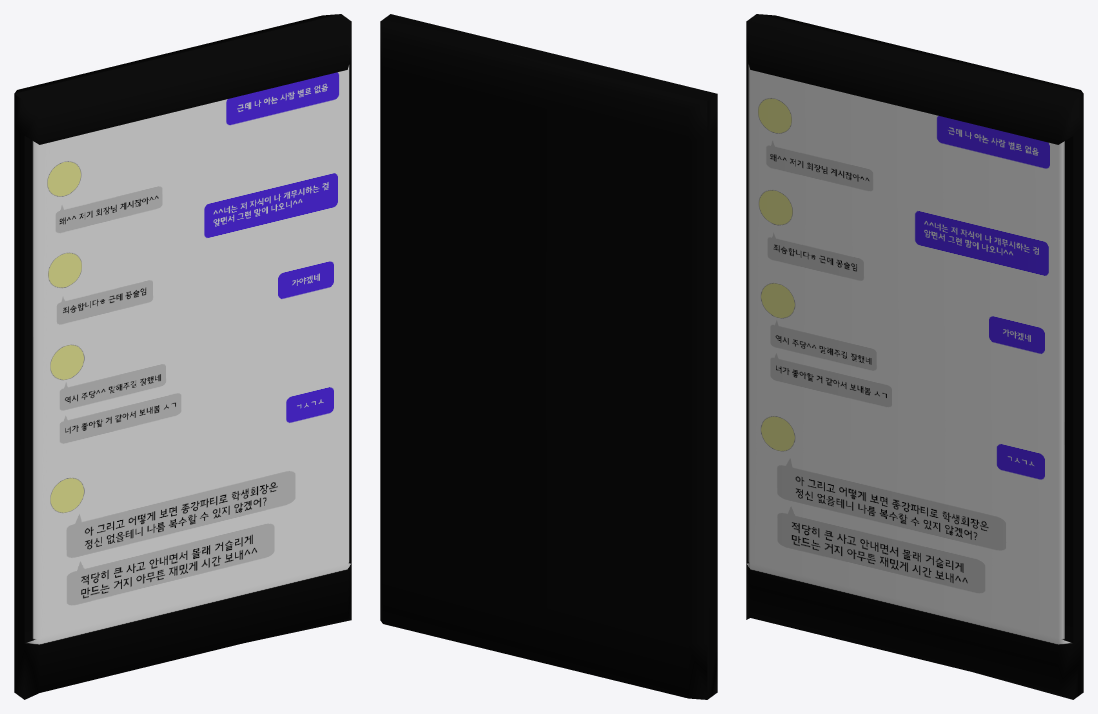
Rendered from Phone3.fbx.
3 renders of one model, left to right at view 1: azimuth 30°, elevation 25°; view 2: azimuth 150°, elevation 25°; view 3: azimuth 330°, elevation 25°, orthographic.
Visible parts, largest first — view 1: pCube3; view 2: pCube3; view 3: pCube3.
Boxes of the visible parts, <box> form: pCube3: <box>14,14,351,699</box>; pCube3: <box>380,14,717,699</box>; pCube3: <box>746,14,1083,699</box>.
Bounding box in the file's own units: 1.04 × 1.83 × 0.1321.
3 materials, 2 textured.
